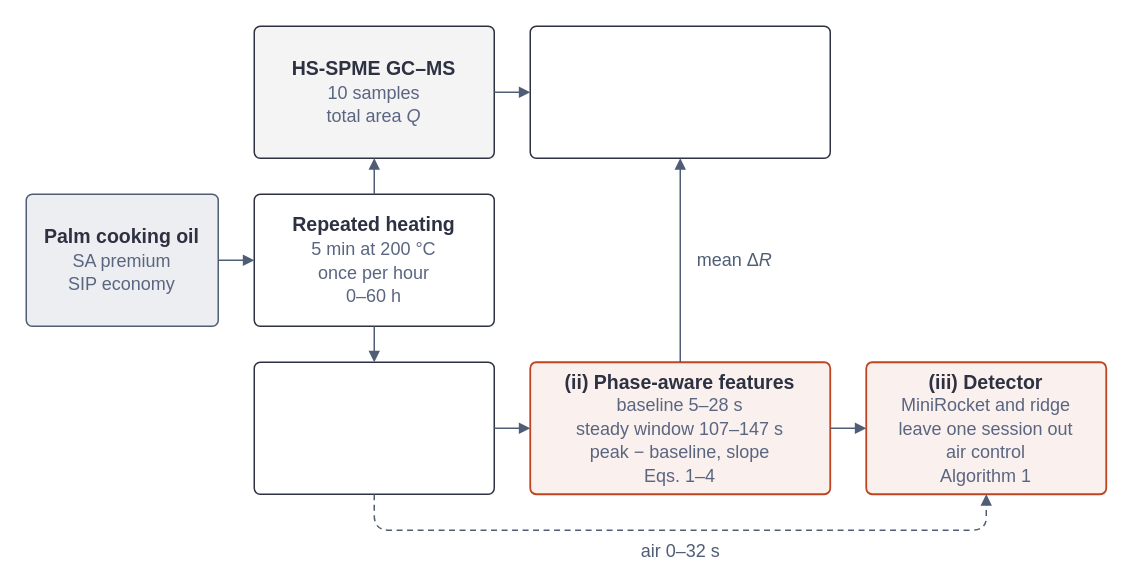
The diagram is 1134 pixels wide and 588 high, and some of its shapes have lost their labels. Here are the shapes that lost their labels. From the top down, the box of each, then its label:
(529, 25, 830, 158): (i) Grade and GC–MS link SIP/SA ratio ϕ( h ), Eq. 6 LOO PLS of Q on Δ R
(253, 361, 494, 494): E-nose, 8 MOS conditioning 0–32 s sampling 33–158 s purging 159–239 s
